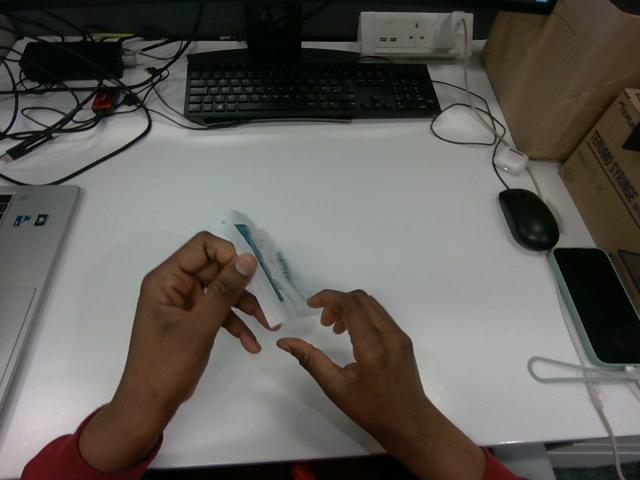gallipot: (211, 210, 314, 326)
